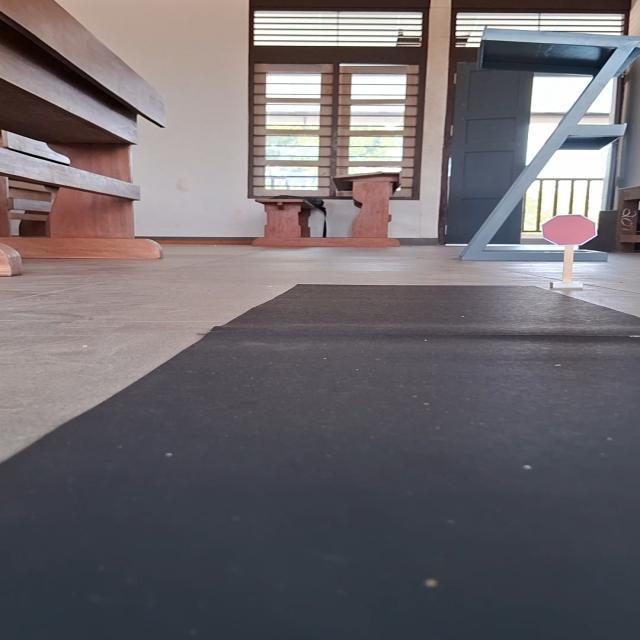Stop: (539, 214, 601, 246)
